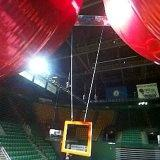Orange_Square_GShape: (62, 121, 92, 156)
